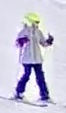skier: (0, 13, 60, 108)
